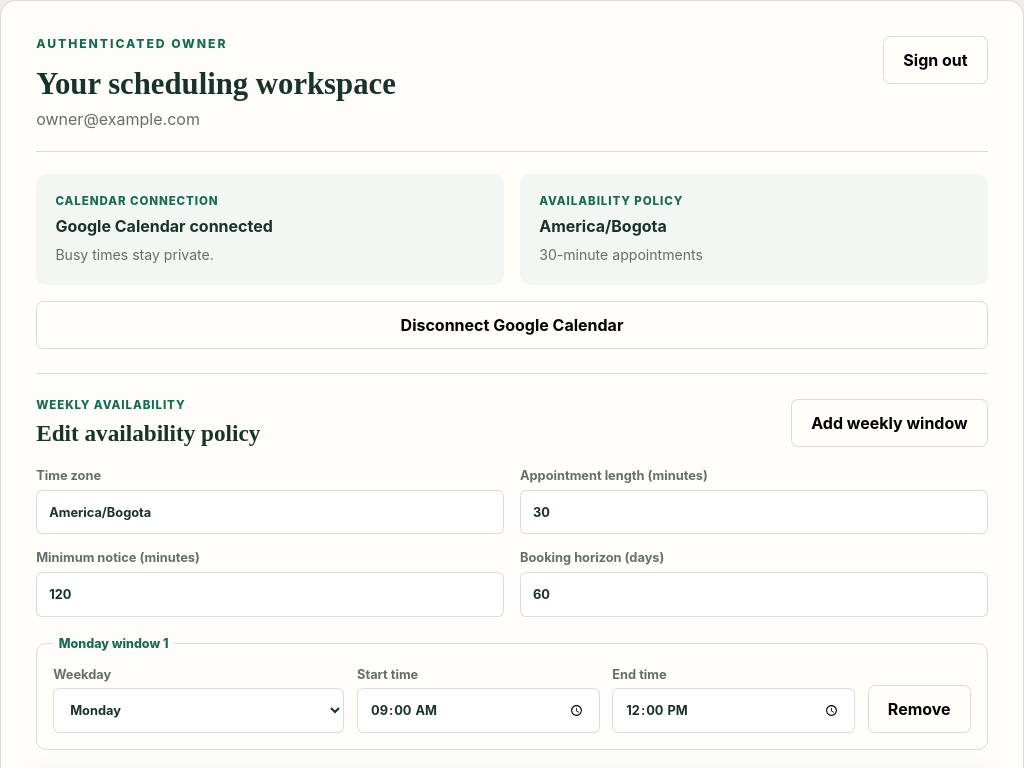
Test: OwnerWorkspace management › disconnects locally and refreshes the connection summary
Click the button "Disconnect Google Calendar" at (512, 325), box x1=36 y1=301 x2=988 y2=349
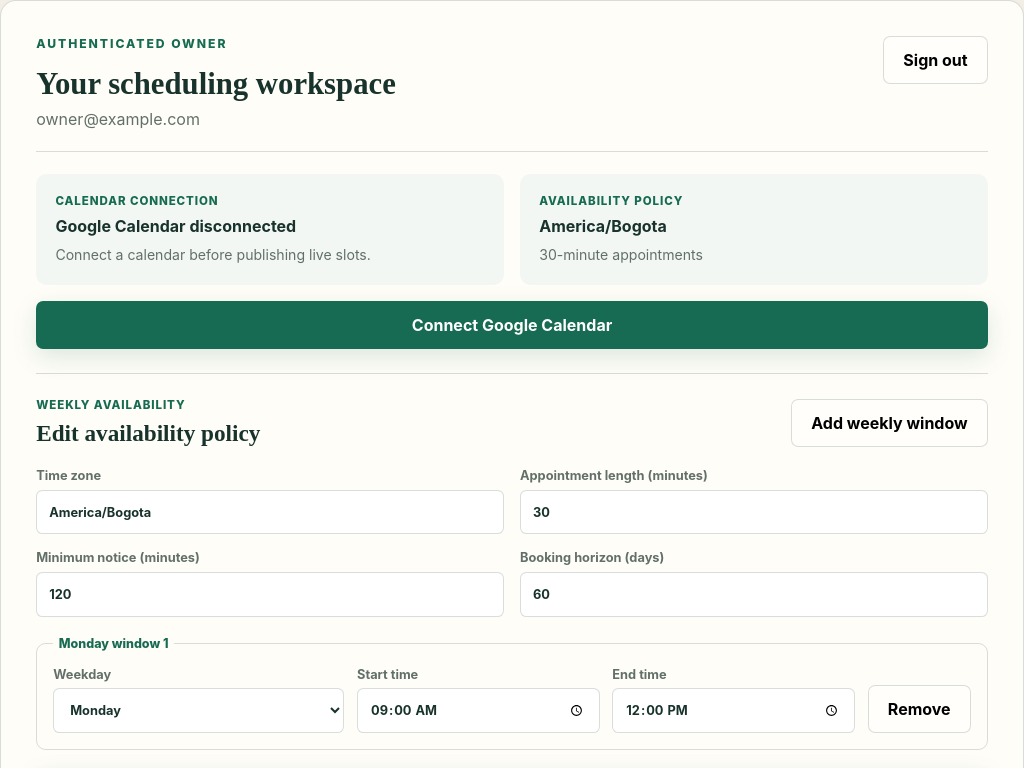
Expected: the text "Google Calendar disconnected" is shown, x1=55 y1=216 x2=296 y2=236
